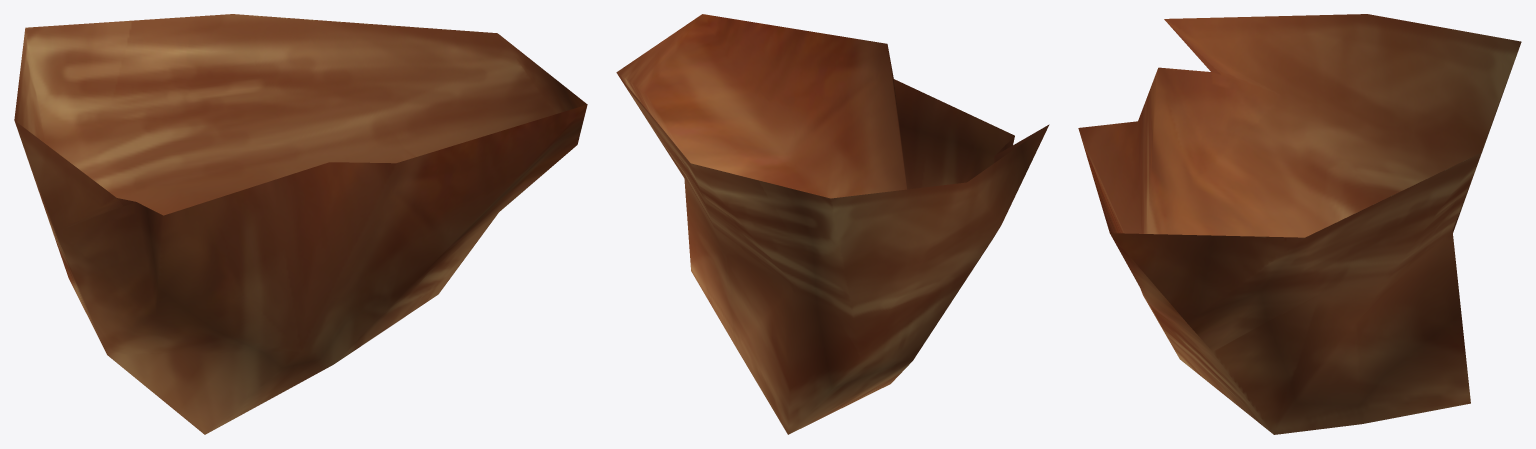
File: rock0.fbx
The picture shows the model from 3 angles, left to right: view 1: azimuth 30°, elevation 25°; view 2: azimuth 150°, elevation 25°; view 3: azimuth 270°, elevation 25°; orthographic projection. The views are drawn at different scales.
Parts seen in each view (by area): view 1: Plane; view 2: Plane; view 3: Plane.
Boxes of the visible parts, <box> form: Plane: <box>14,14,587,434</box>; Plane: <box>616,14,1049,434</box>; Plane: <box>1078,14,1521,434</box>.
Size of the model in its own units: 1.59 by 1.05 by 1.28.
Materials: 1 (1 with a texture image).
